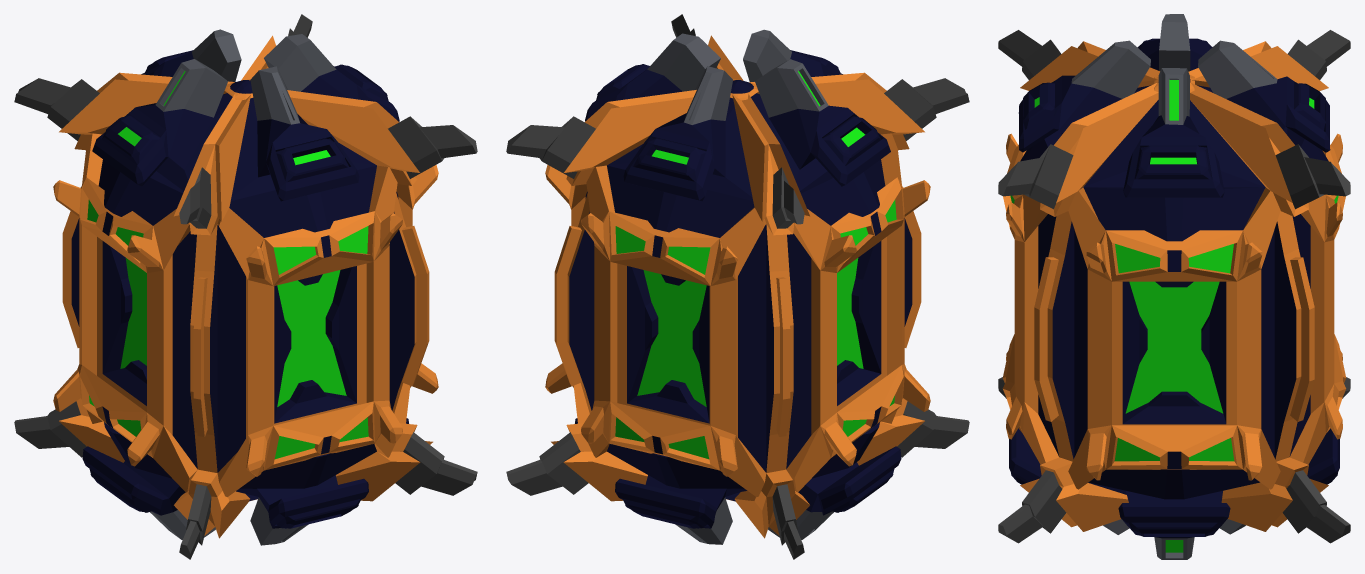
Rendered from アイテムボックス 1.fbx.
3 views of the same model, side by side, from view 1: azimuth 30°, elevation 25°; view 2: azimuth 150°, elevation 25°; view 3: azimuth 270°, elevation 25° (orthographic). The views are drawn at different scales.
Parts seen in each view (by area): view 1: Cube; view 2: Cube; view 3: Cube.
Part boxes in pixels (x1,y1,x2,y2): Cube: (14,14,477,559); Cube: (506,14,969,559); Cube: (998,14,1350,559).
Bounding box in the file's own units: 342 × 497 × 327.
